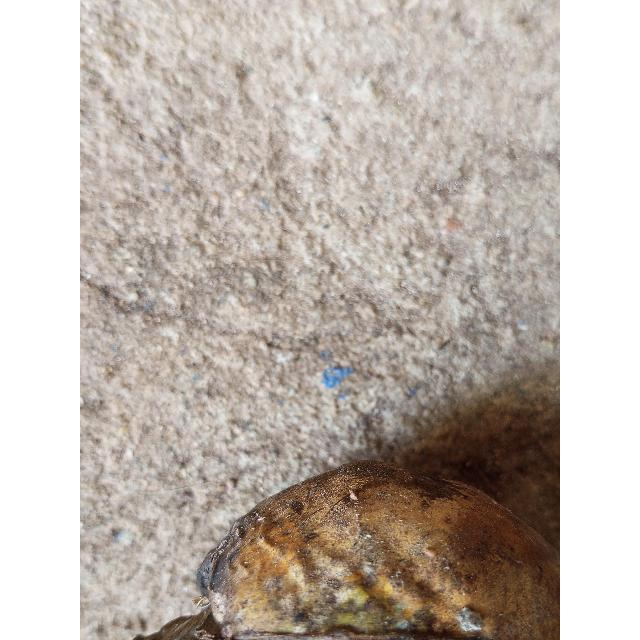damaged: (144, 462, 560, 640)
